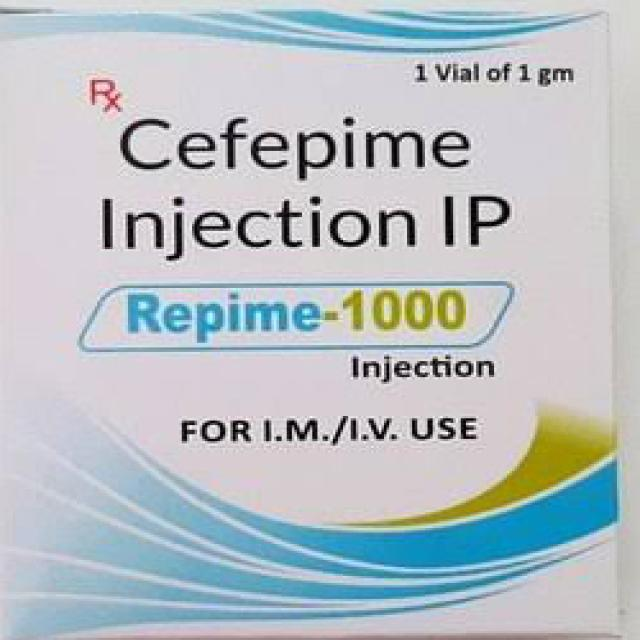drug-name: (120, 291, 469, 346)
